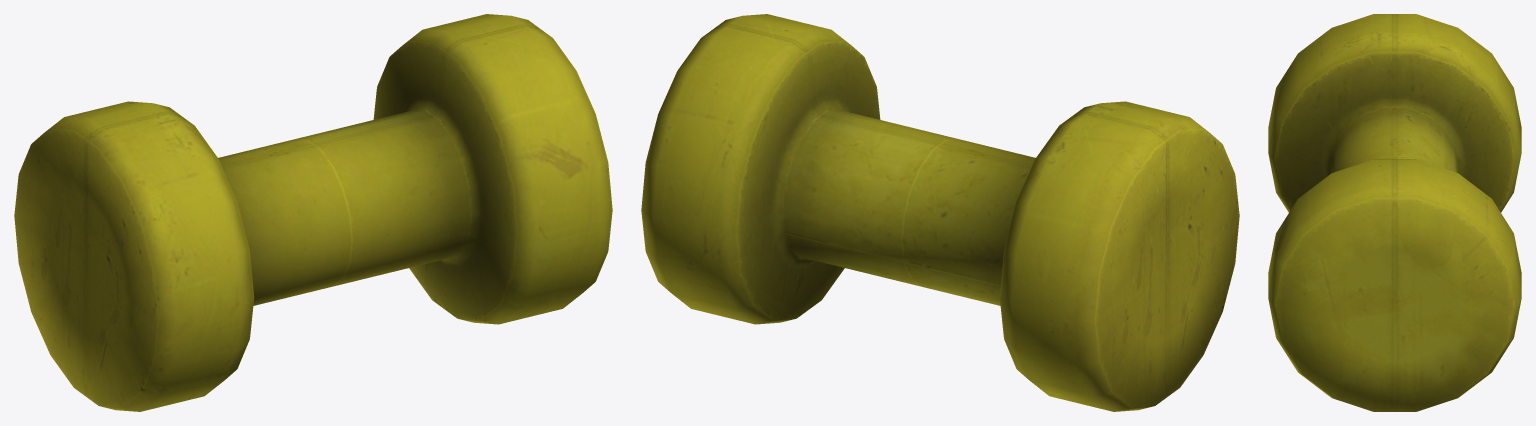
File: dumbell_plastic.dae
The picture shows the model from 3 angles, left to right: view 1: azimuth 30°, elevation 25°; view 2: azimuth 150°, elevation 25°; view 3: azimuth 270°, elevation 25°; orthographic projection. The views are drawn at different scales.
Visible parts, largest first — view 1: dumbell_plastic; view 2: dumbell_plastic; view 3: dumbell_plastic.
Boxes of the visible parts, x1,y1,x2,y2 form: dumbell_plastic: (14, 14, 612, 411); dumbell_plastic: (641, 14, 1239, 411); dumbell_plastic: (1268, 14, 1521, 411).
Size of the model in its own units: 13.98 by 7.99 by 8.11.
